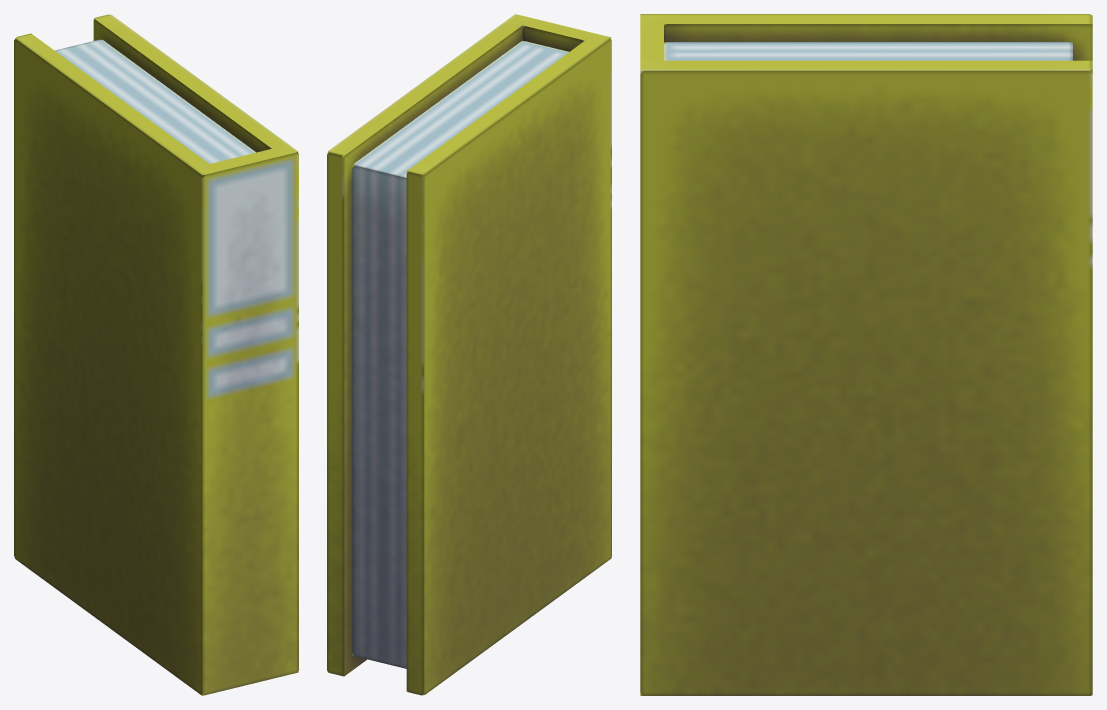
Rendered from smallfile.obj.
The picture shows the model from 3 angles, left to right: view 1: azimuth 30°, elevation 25°; view 2: azimuth 150°, elevation 25°; view 3: azimuth 270°, elevation 25°; orthographic projection. The views are drawn at different scales.
Visible parts, largest first — view 1: SmallFile; view 2: SmallFile; view 3: SmallFile.
Part boxes in pixels (x1,y1,x2,y2): SmallFile: (14,14,298,695); SmallFile: (327,14,611,695); SmallFile: (640,14,1092,695).
Bounding box in the file's own units: 0.1165 × 0.5997 × 0.3932.
Materials: 1 (1 with a texture image).
